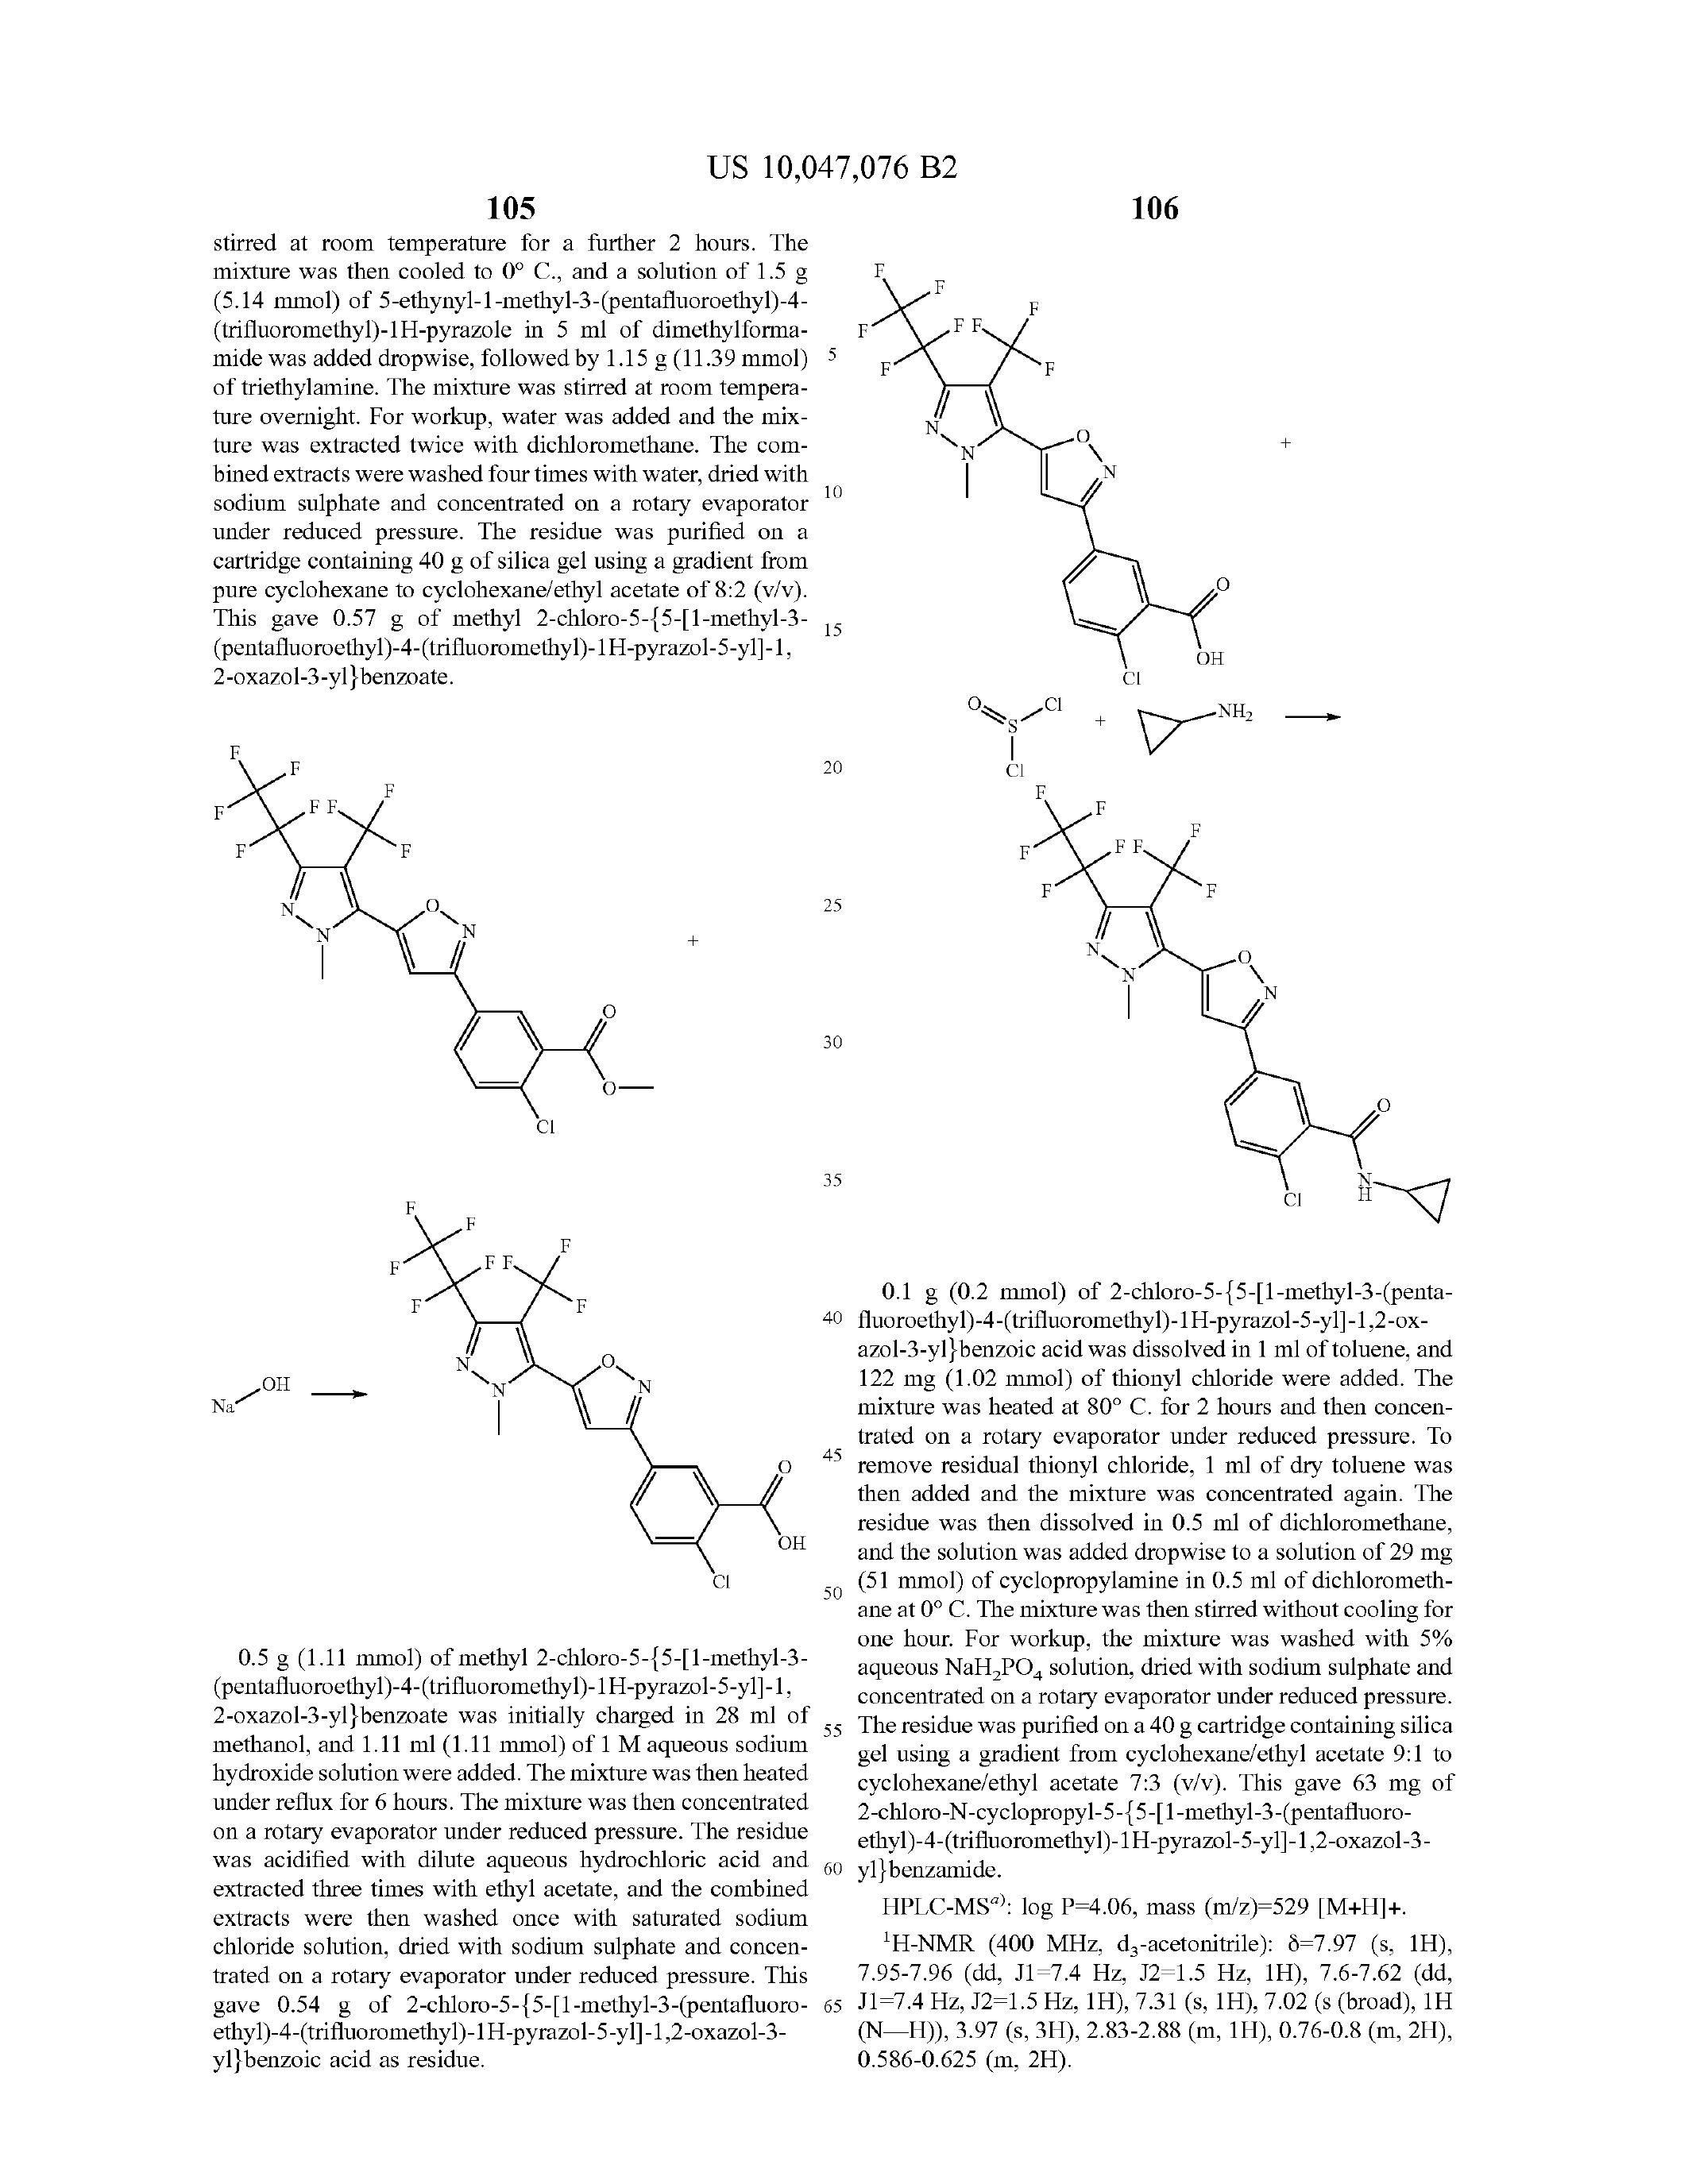reactions: (126, 746, 780, 1525)
